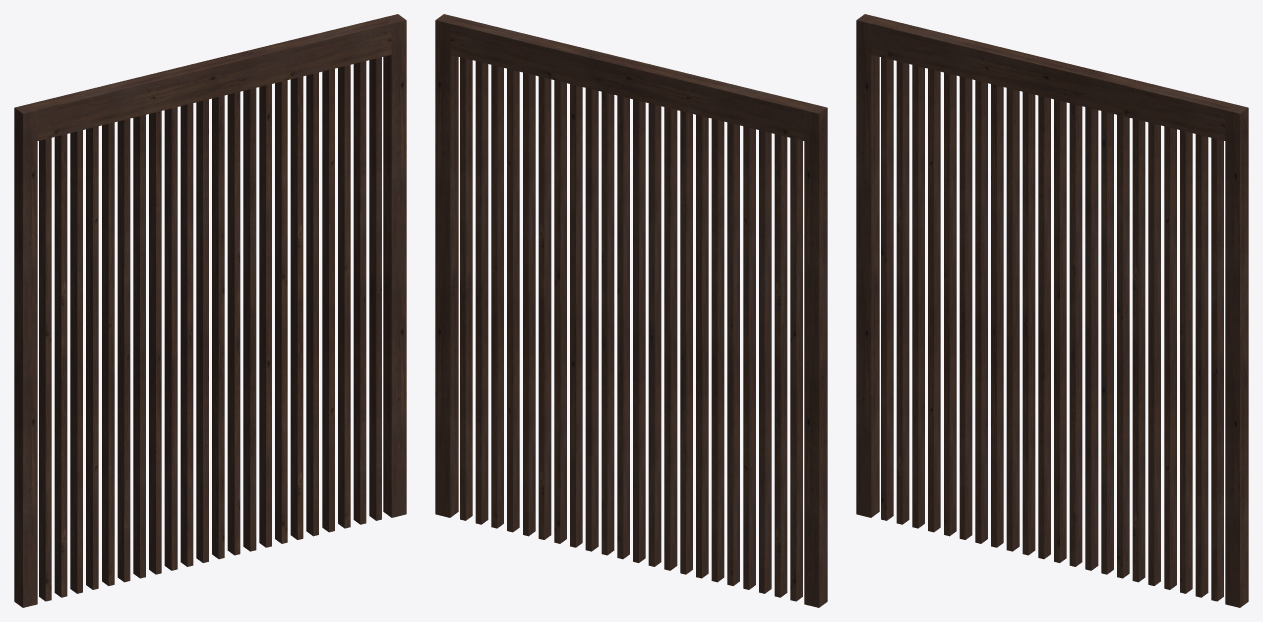
File: 2400-1950_darkpine.fbx
The picture shows the model from 3 angles, left to right: view 1: azimuth 30°, elevation 25°; view 2: azimuth 150°, elevation 25°; view 3: azimuth 330°, elevation 25°; orthographic projection.
Visible parts, largest first — view 1: 2400-1950_darkpine; view 2: 2400-1950_darkpine; view 3: 2400-1950_darkpine.
Part boxes in pixels (x1,y1,x2,y2): 2400-1950_darkpine: (14,14,406,607); 2400-1950_darkpine: (435,14,827,607); 2400-1950_darkpine: (856,14,1248,607).
Size of the model in its own units: 195 by 240 by 7.5.
Materials: 1 (1 with a texture image).
